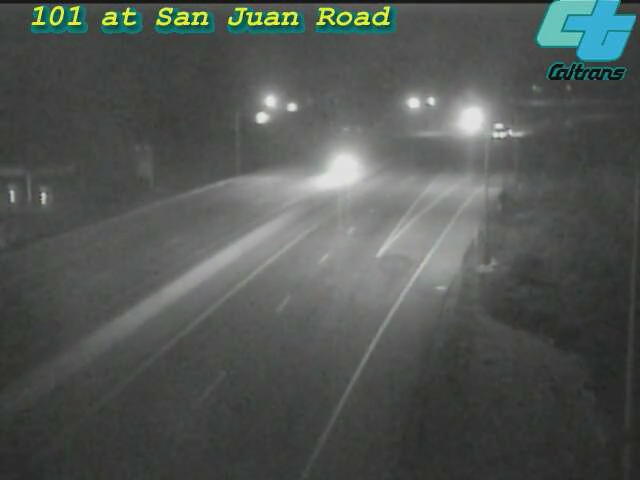vehicle: (304, 126, 384, 206), (443, 96, 493, 146), (478, 106, 528, 156)
